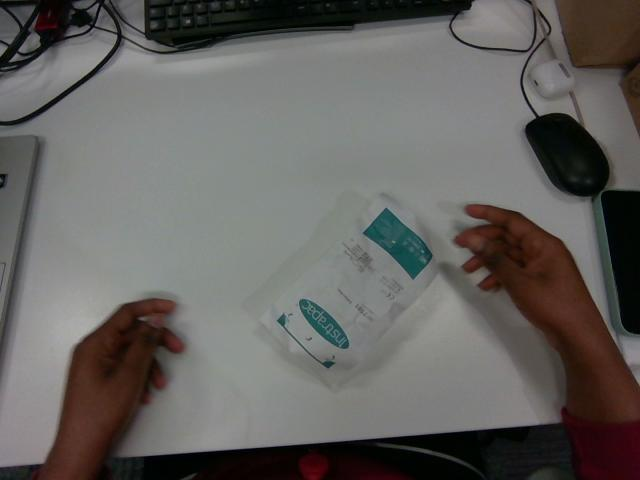gallipot: (261, 195, 436, 384)
